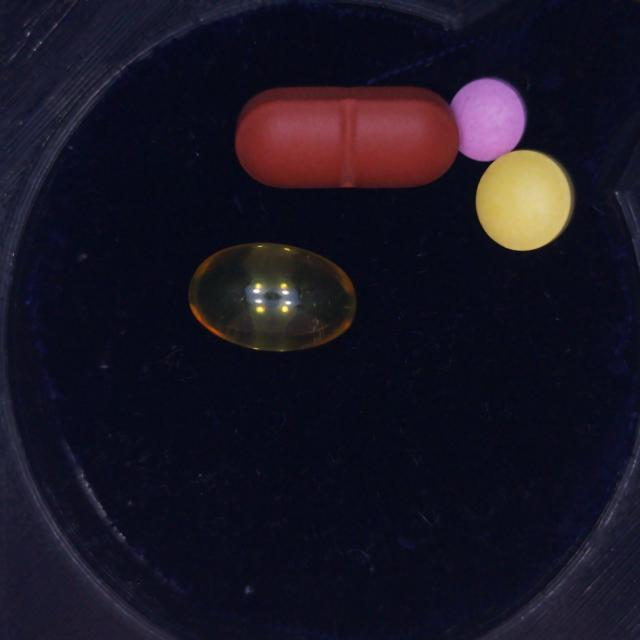Pill: (236, 87, 459, 188), (189, 243, 356, 351), (476, 150, 575, 251), (450, 77, 527, 162)
